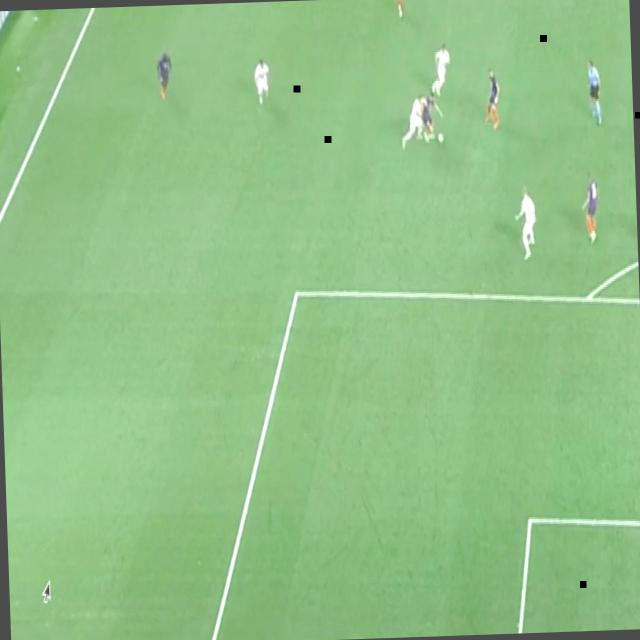ball: (436, 131, 446, 145)
player-white: (512, 182, 540, 266), (578, 166, 602, 248), (427, 39, 452, 107), (398, 91, 428, 147), (582, 57, 604, 131), (483, 62, 502, 132), (251, 54, 273, 110), (154, 48, 176, 103), (421, 91, 444, 141), (394, 0, 411, 18)
